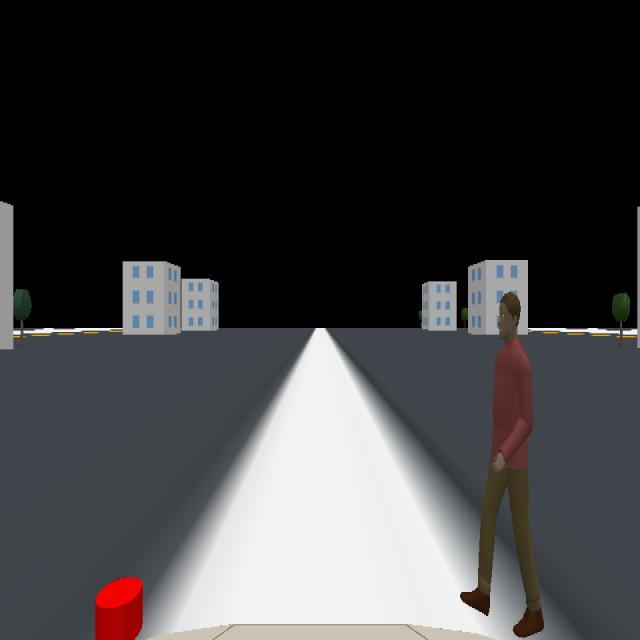human: (459, 291, 545, 637)
